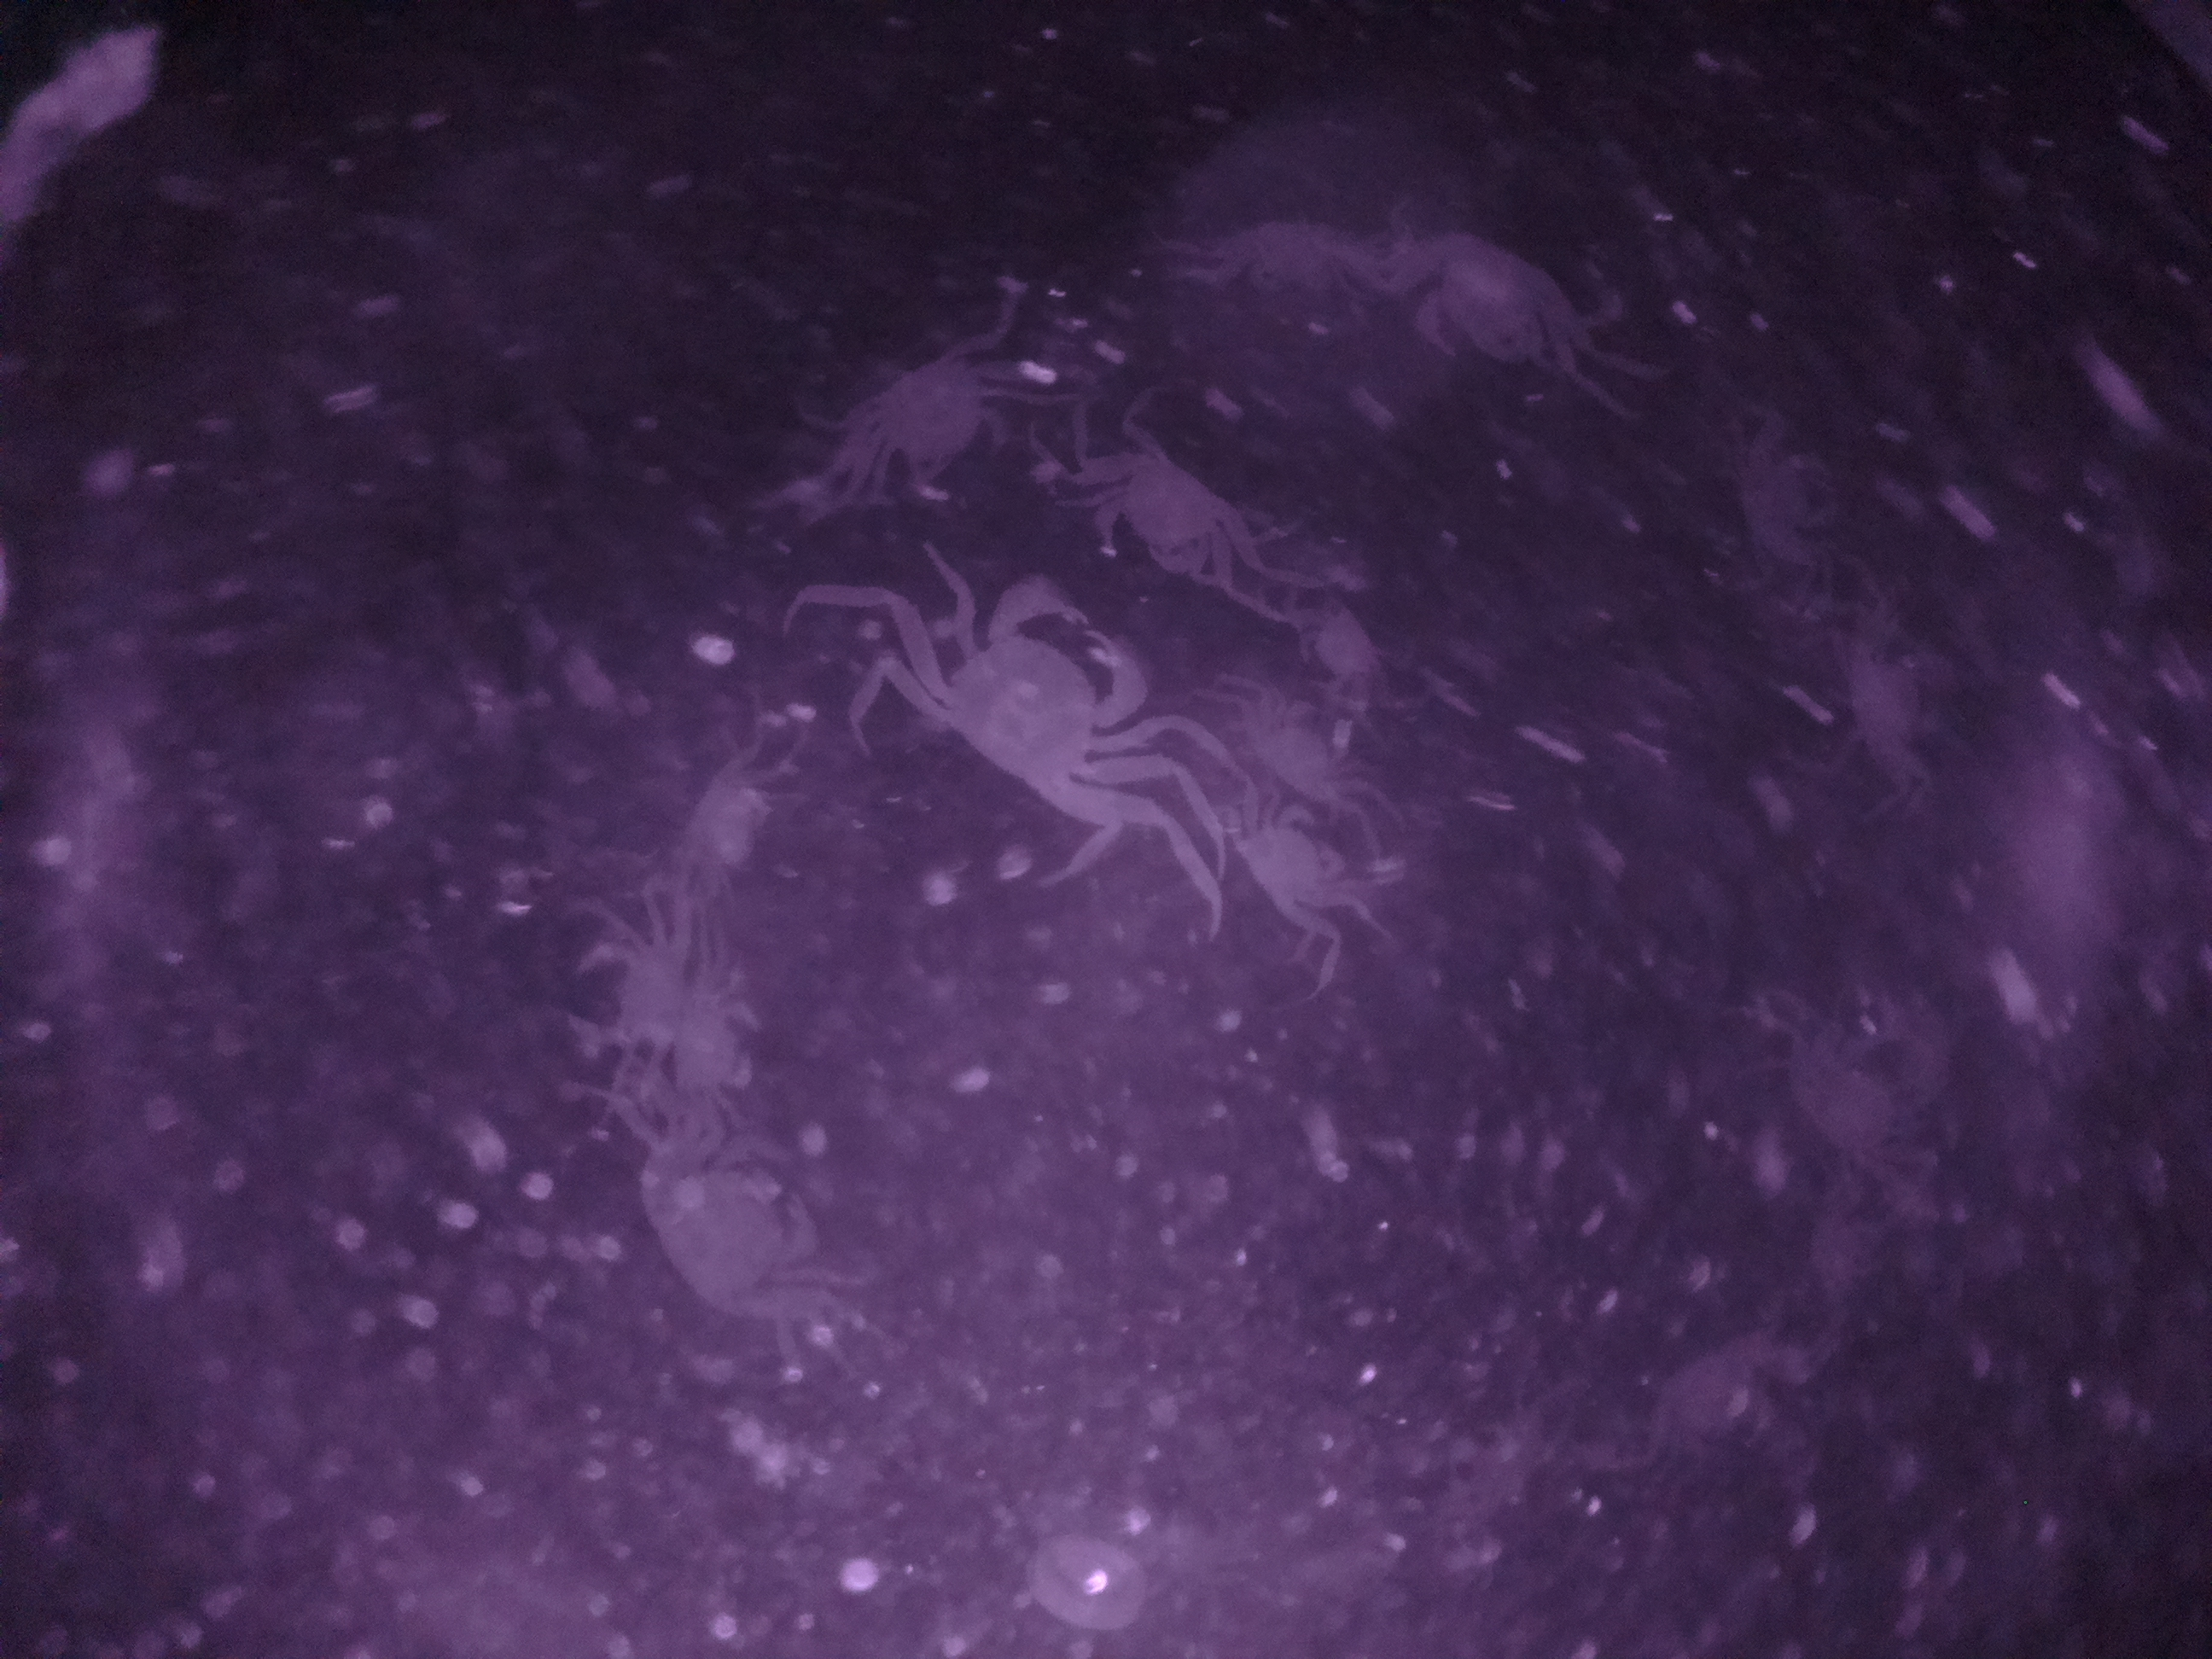Crab: (906, 573, 1179, 833), (846, 326, 1024, 514), (1388, 220, 1594, 382), (1071, 429, 1259, 589), (1224, 772, 1376, 946)
